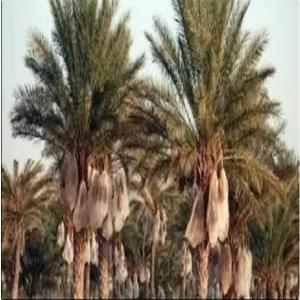palm tree: (143, 0, 289, 298), (1, 156, 57, 298)
